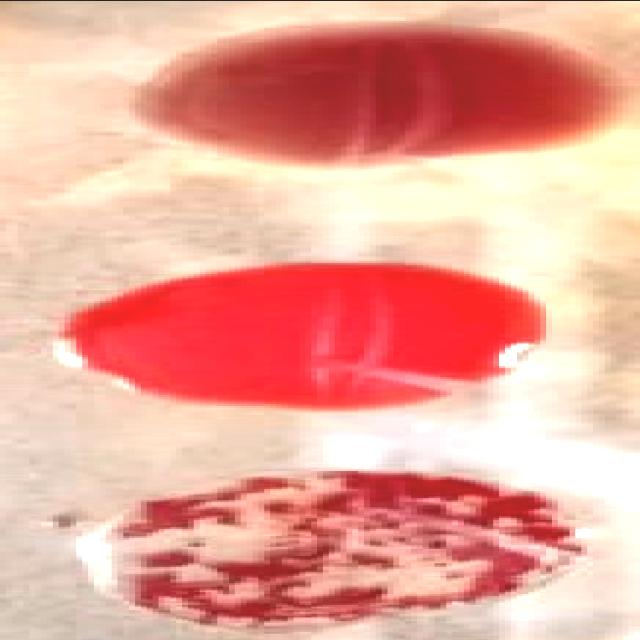D: (87, 464, 589, 628)
